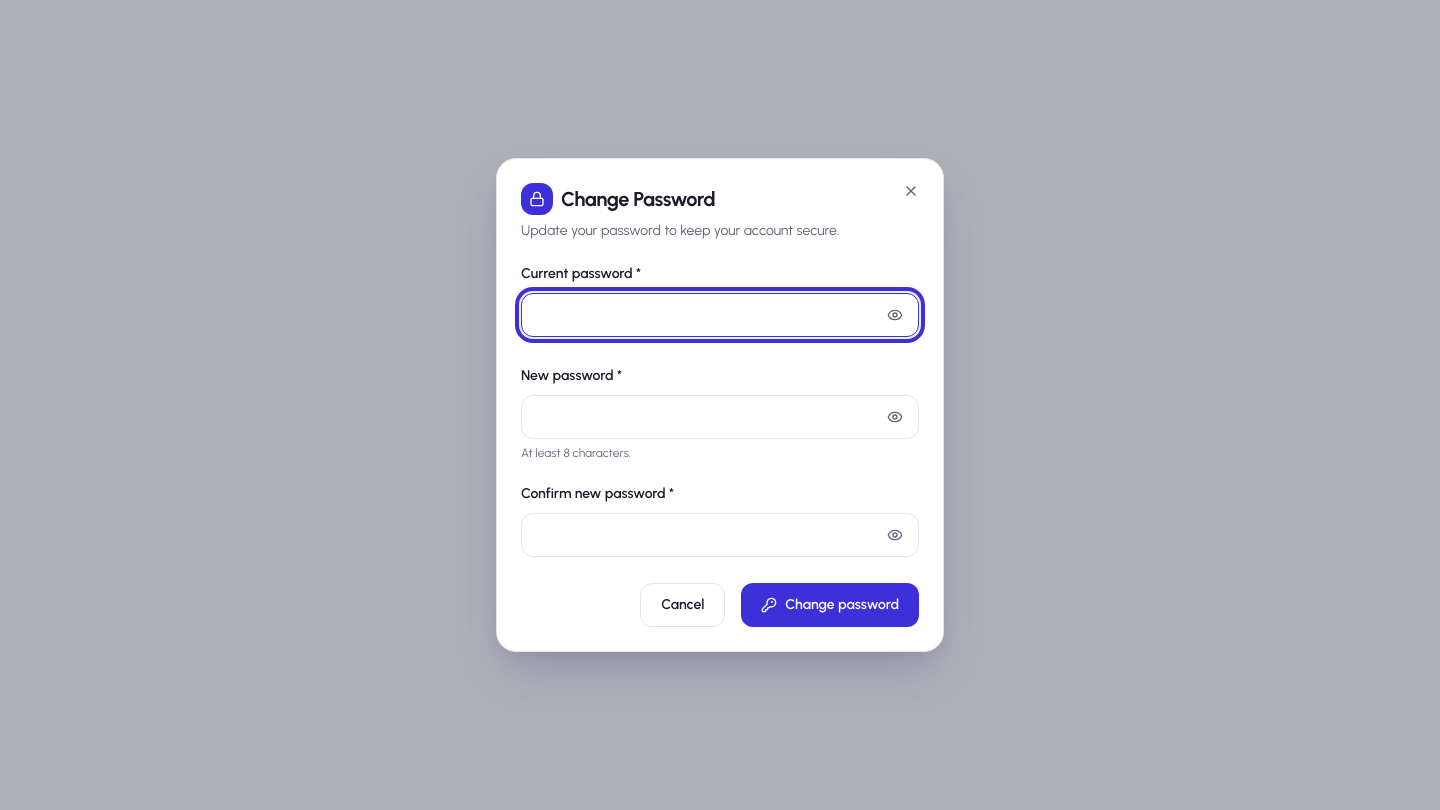
ChangePasswordDialog › puts each problem next to its field and sends nothing
Click the button "Change password" at point(830, 605), box [741, 583, 919, 627]
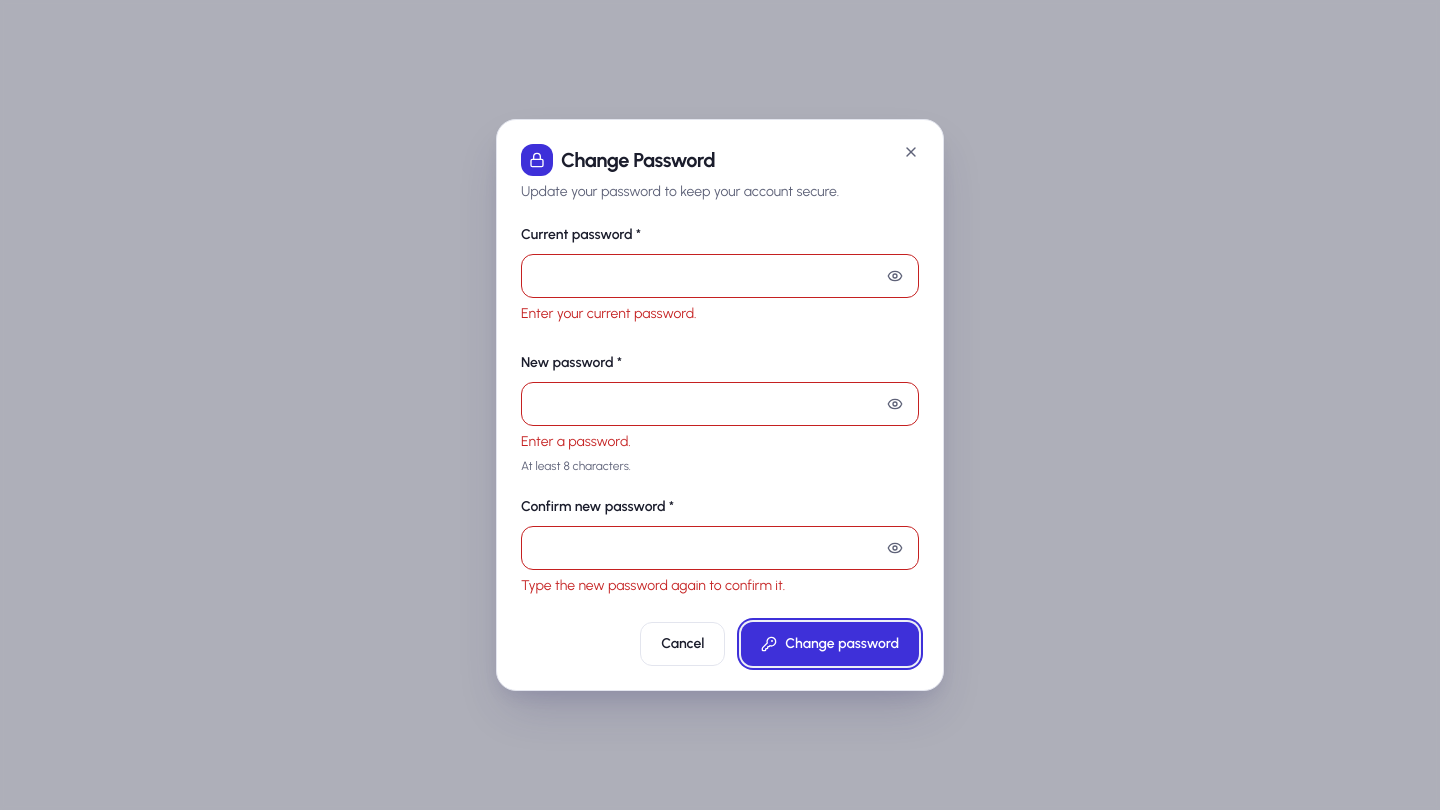
Result: the text "Enter your current password." is shown at [521, 305, 697, 322]
Result: the text "Enter a password." is shown at [521, 433, 631, 450]
